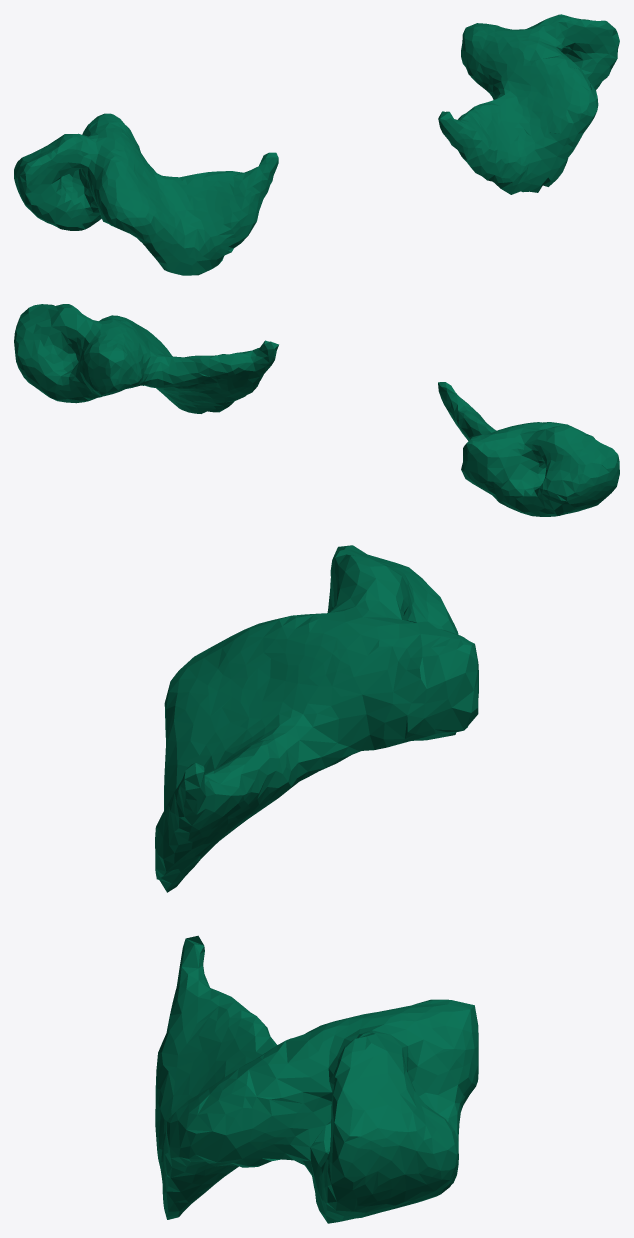
Rendered from 75-V4V-visual area 4, ventral part-('0.0000', '0.4980', '0.3647').obj.
3 renders of one model, top to bottom at view 1: azimuth 30°, elevation 25°; view 2: azimuth 150°, elevation 25°; view 3: azimuth 270°, elevation 25°, orthographic. The views are drawn at different scales.
Bounding box in the file's own units: 337 × 66.77 × 79.08.
